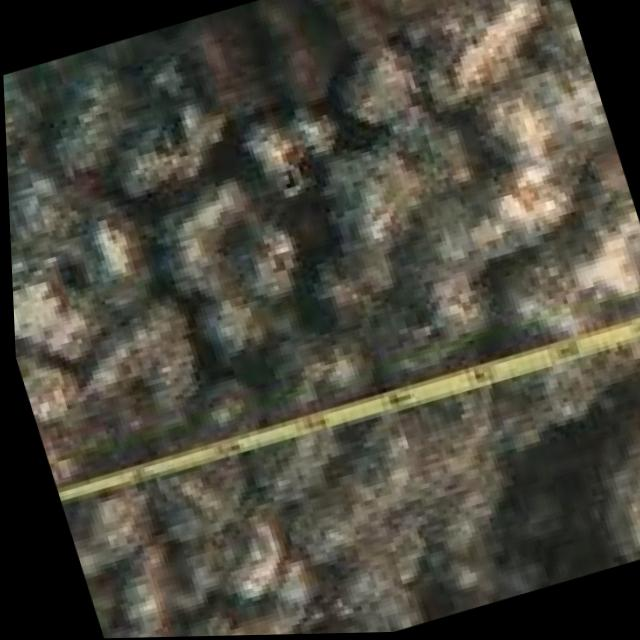Dead Coral: (0, 0, 555, 498)
